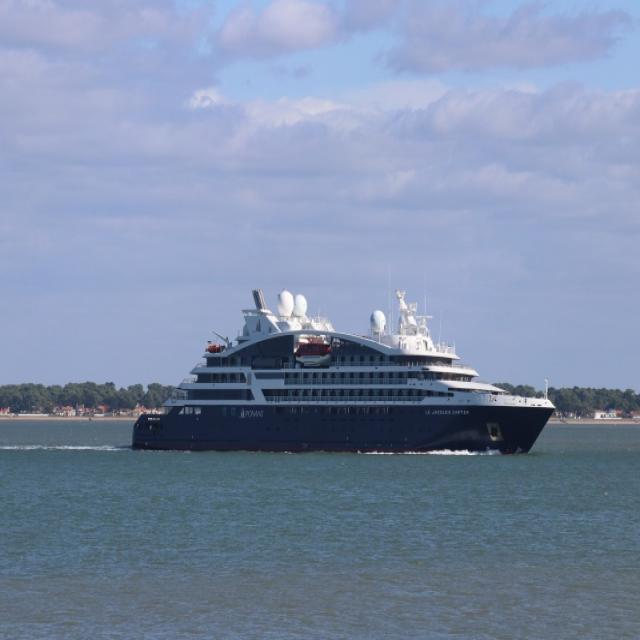cruises: (129, 287, 559, 467)
